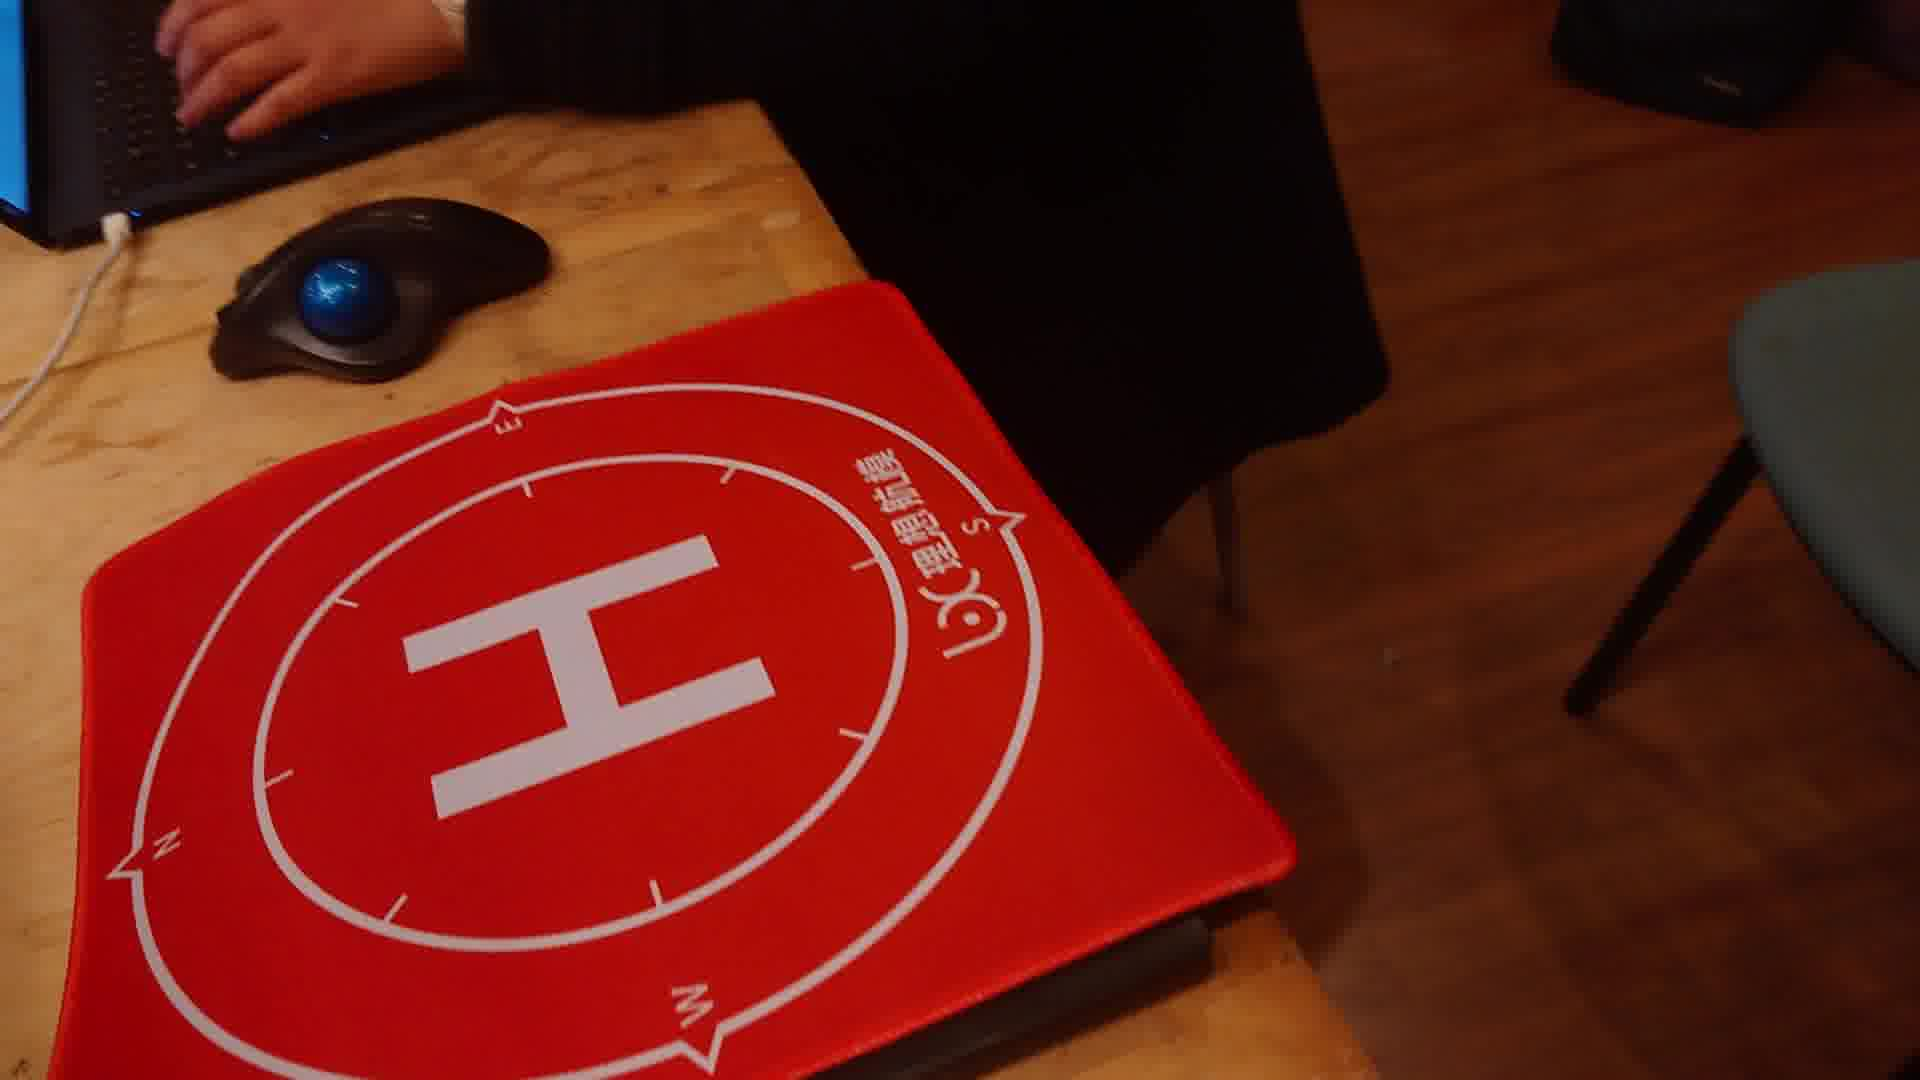H: (400, 533, 777, 820)
